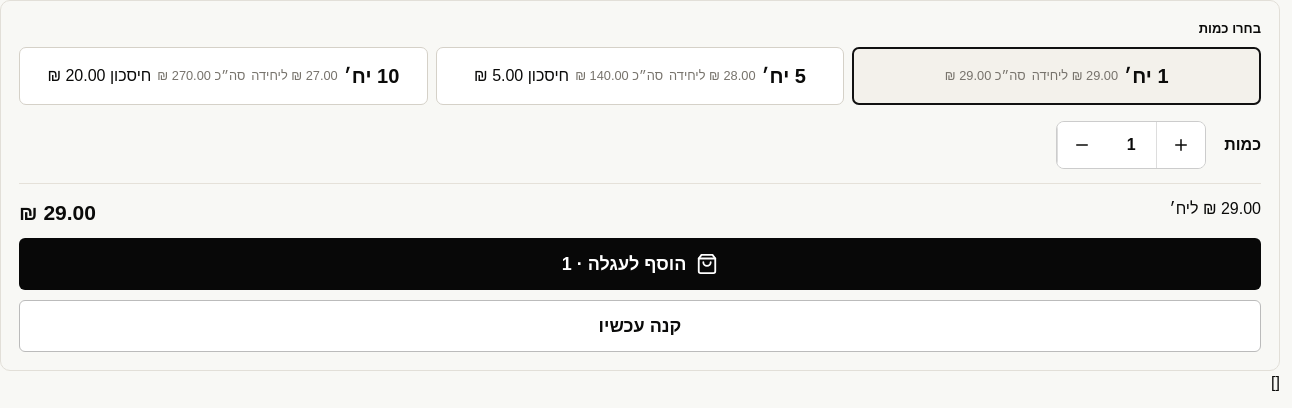
Test case: recalculates the applicable tier when quantity changes
This screenshot has width=1292, height=408.
What coordinates should you click on to do the following:
click the button with aria-label "5 יחידות"
I would click on:
 (640, 76)
Its box is left=436, top=46, right=844, bottom=104.
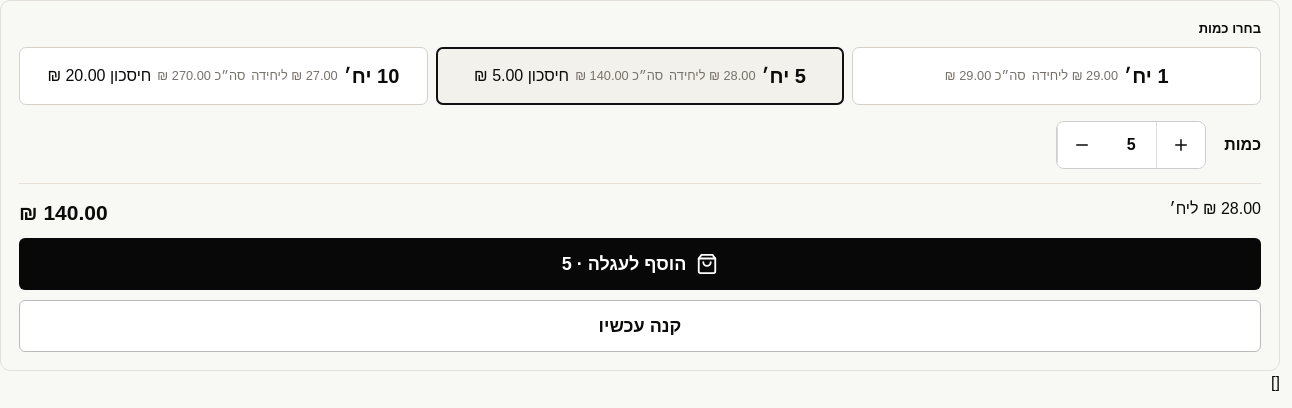
What coordinates should you click on to do the following:
click the button named "הגדלת כמות"
I would click on:
 (1181, 144)
Its box is left=1156, top=122, right=1205, bottom=168.
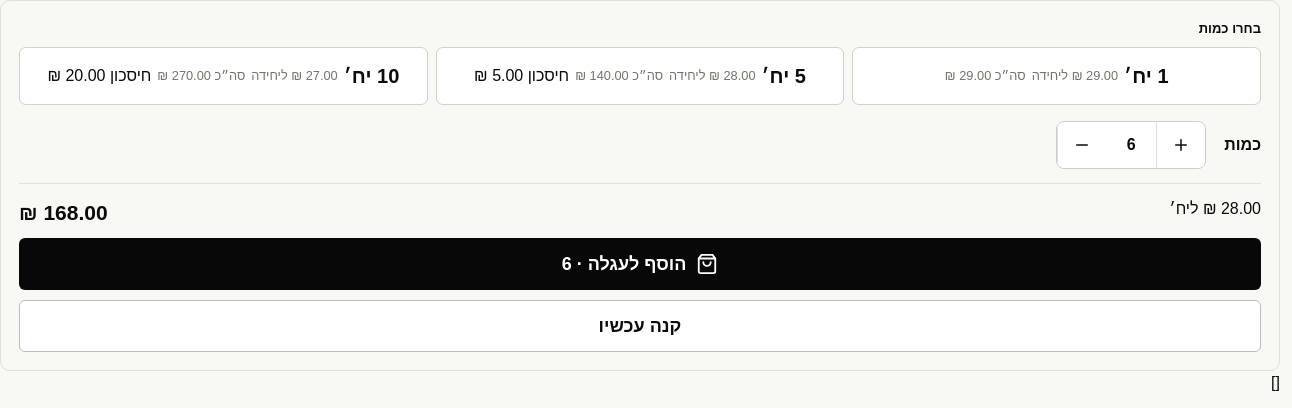
Now the text "28.00 ₪ ליח׳" is shown, box left=1170, top=200, right=1261, bottom=216
Now the text "168.00 ₪" is shown, box left=19, top=196, right=108, bottom=228
